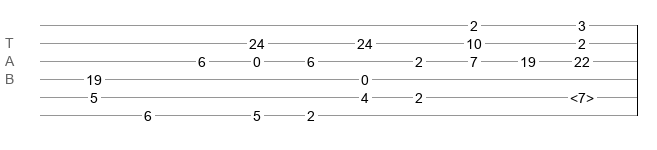0: (253, 54, 261, 64), (361, 72, 369, 82)
10: (466, 36, 482, 46)
19: (86, 72, 102, 82), (520, 54, 536, 64)
2: (307, 108, 315, 118), (415, 54, 423, 64), (415, 90, 423, 100), (470, 18, 478, 28), (578, 36, 586, 46)
22: (574, 54, 590, 64)
24: (249, 36, 265, 46), (357, 36, 373, 46)
3: (578, 18, 586, 28)
4: (361, 90, 369, 100)
5: (90, 90, 98, 100), (253, 108, 261, 118)
6: (144, 108, 152, 118), (198, 54, 206, 64), (307, 54, 315, 64)
7: (470, 54, 478, 64)
harmonic: (570, 90, 594, 100)
